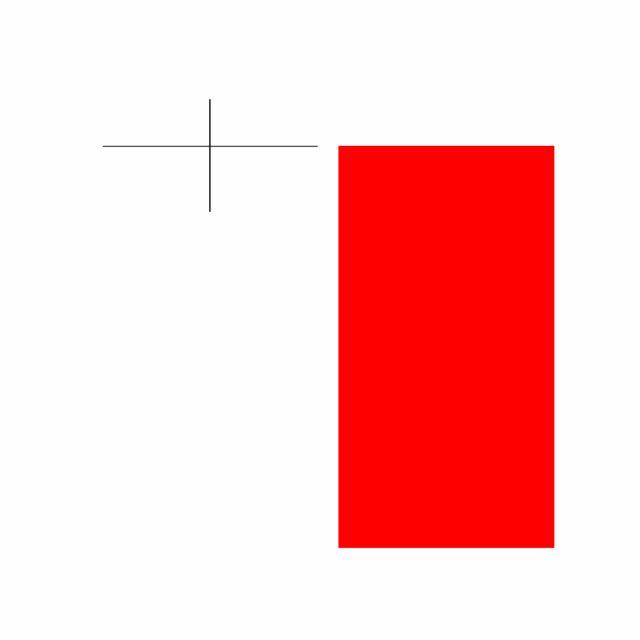Marubozu: (328, 142, 566, 552)
